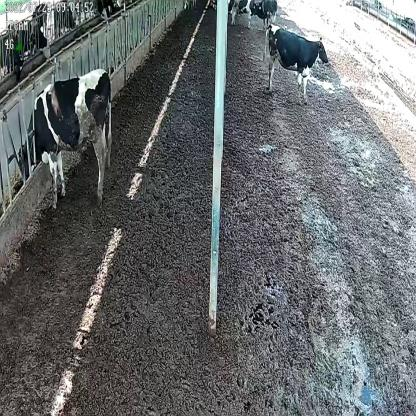cow: (15, 66, 113, 209), (263, 24, 328, 106), (229, 0, 258, 28), (257, 0, 278, 26)
